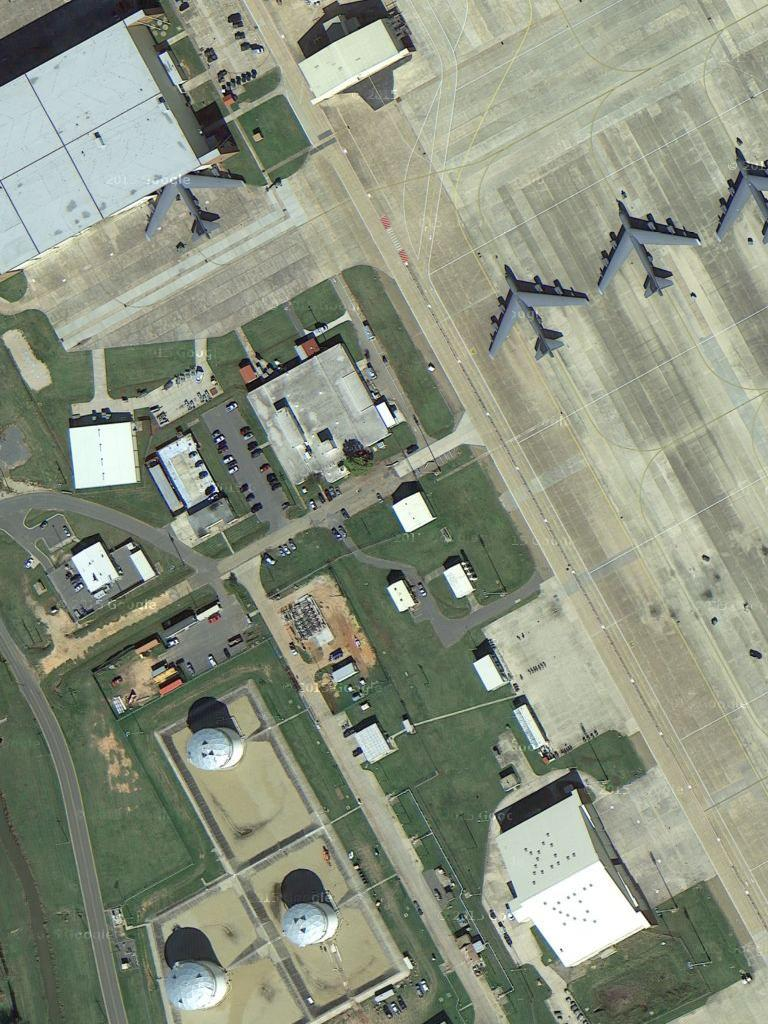B-52: (590, 200, 702, 304), (479, 265, 594, 363), (712, 139, 768, 246)
